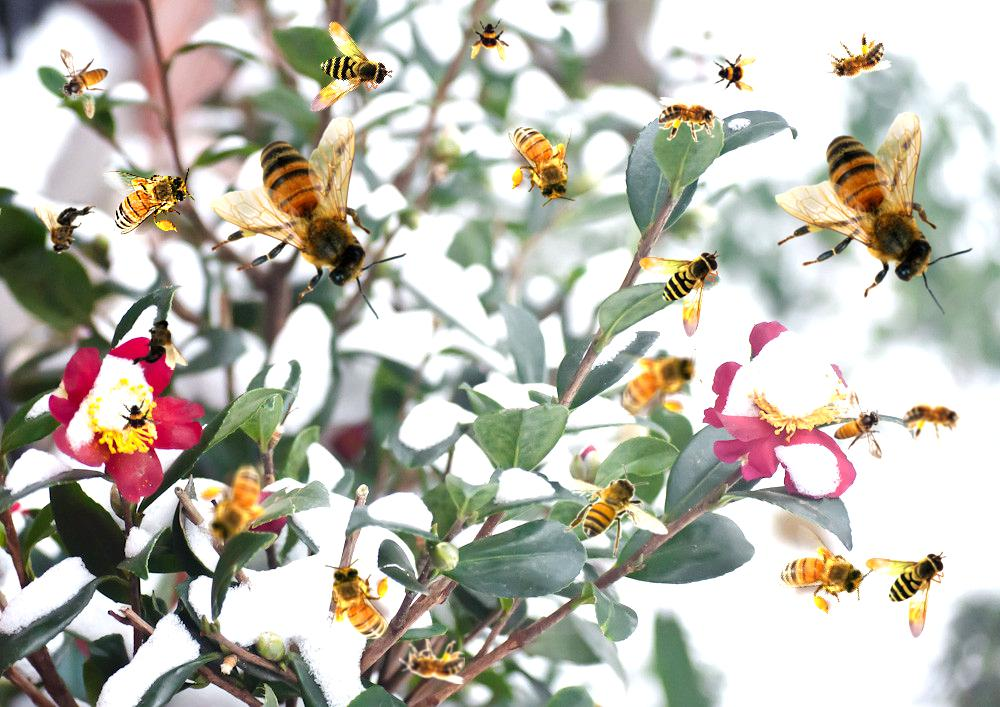Bee: (775, 111, 974, 315), (209, 116, 408, 320), (275, 14, 397, 134), (763, 518, 879, 629), (181, 449, 297, 558), (558, 464, 669, 558), (639, 250, 721, 338), (865, 551, 947, 639), (102, 167, 195, 235), (508, 114, 576, 207), (609, 348, 702, 416), (324, 559, 392, 652), (814, 24, 894, 95), (59, 48, 109, 119), (833, 389, 883, 460), (34, 202, 96, 255), (126, 317, 188, 370), (658, 97, 724, 142), (902, 398, 968, 443), (399, 639, 465, 684), (112, 394, 166, 448), (713, 50, 757, 94), (469, 18, 513, 62)
